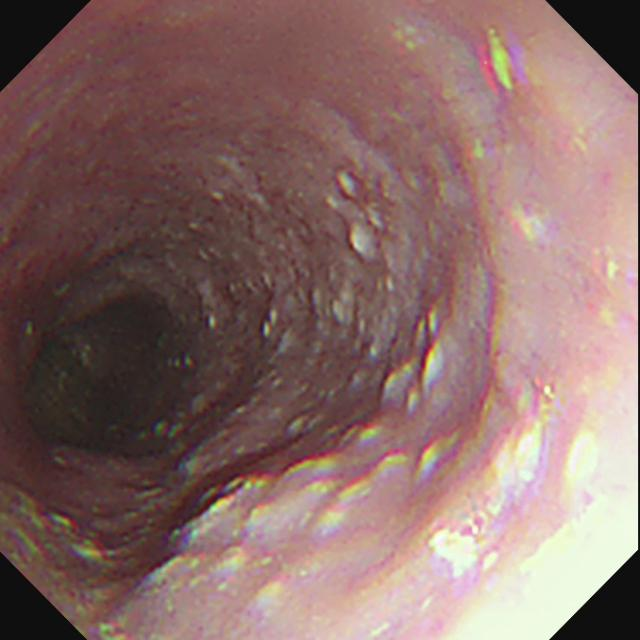E: (13, 271, 210, 463)
J: (151, 392, 475, 616), (202, 160, 448, 390)
